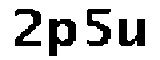2: (7, 4, 47, 52)
5: (81, 5, 114, 47)
p: (44, 17, 78, 60)
u: (117, 15, 153, 51)
